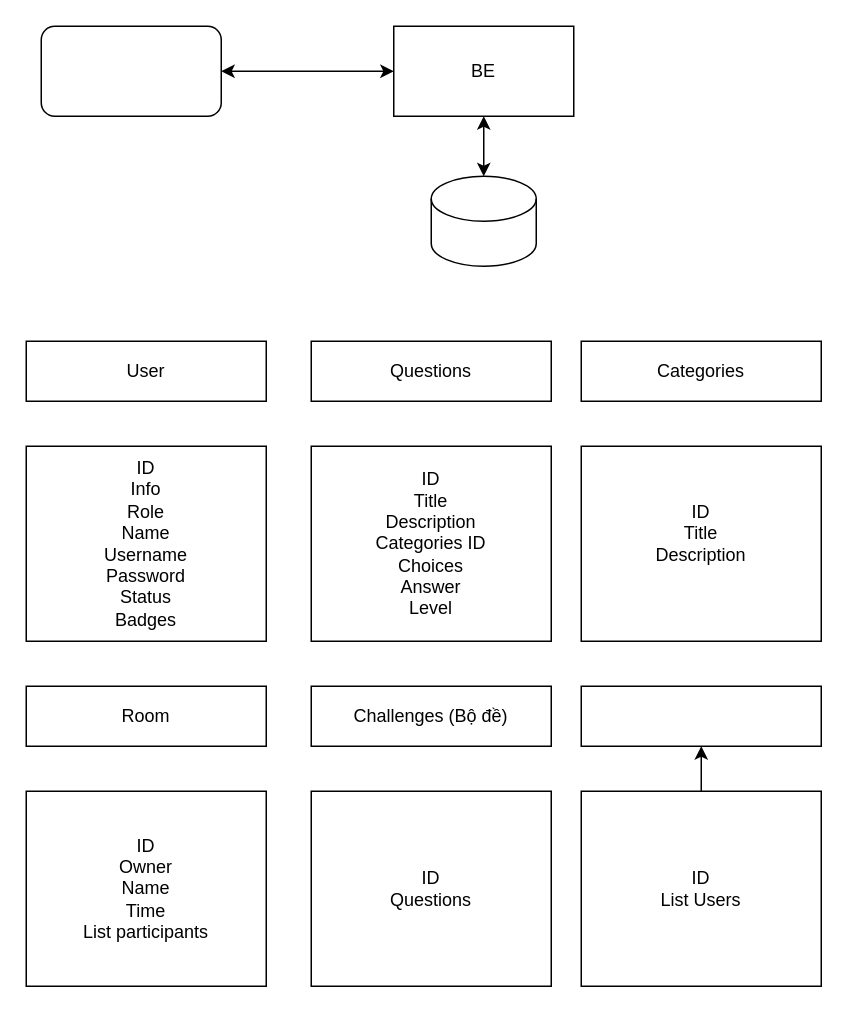
Some shapes in this 848 by 1013 pixel diagram are drawn without their labels. The box of each missing label's shape, as (x1, y1, x2, y2) in pixels:
FE: (40, 25, 221, 116)
Learning Groups: (580, 685, 821, 746)
